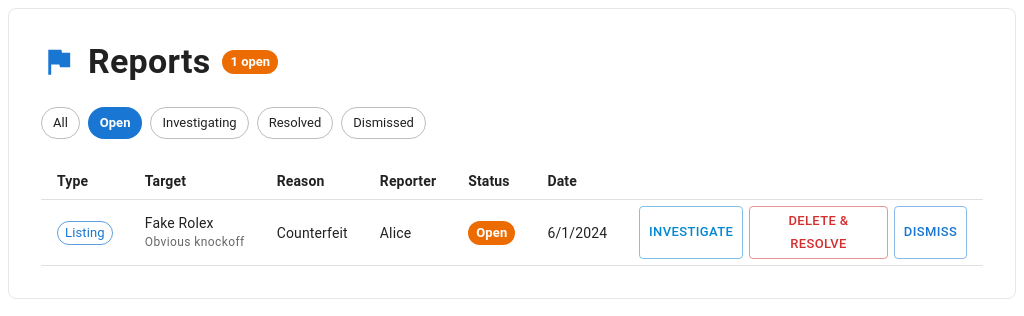
Test: ReportsPage › refetches when a status filter chip is clicked
Expected: the text "Fake Rolex" is shown, [145, 215, 214, 231]
Click the button "Resolved" at (295, 123), box [257, 107, 333, 139]
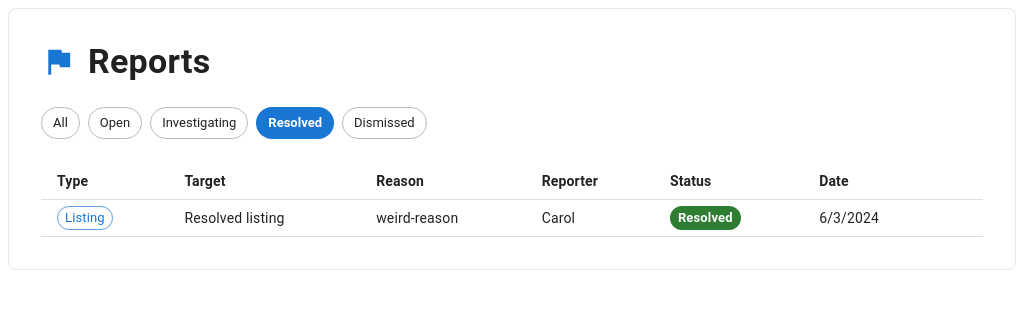
Result: the text "Resolved listing" is shown at [184, 210, 285, 226]
